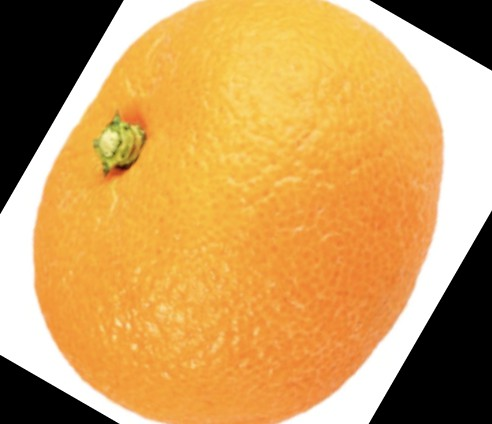fresh_orange: (31, 2, 444, 424)
